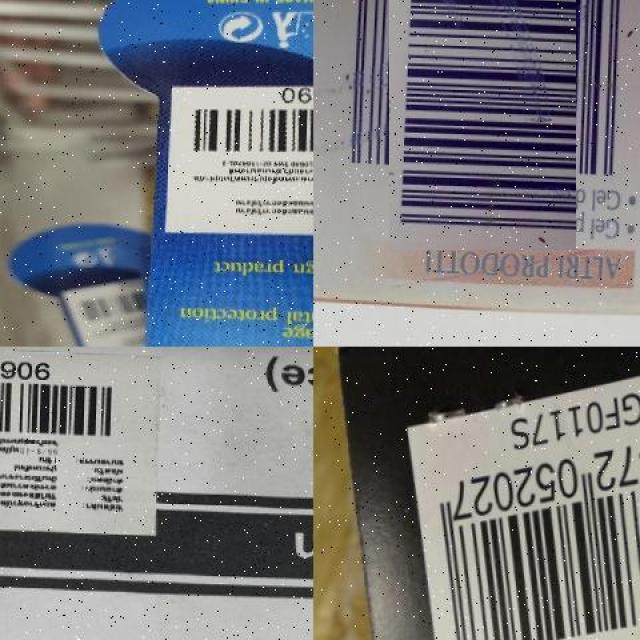Barcode: (397, 347, 639, 640), (357, 0, 607, 219), (175, 83, 313, 164), (0, 351, 124, 440)
